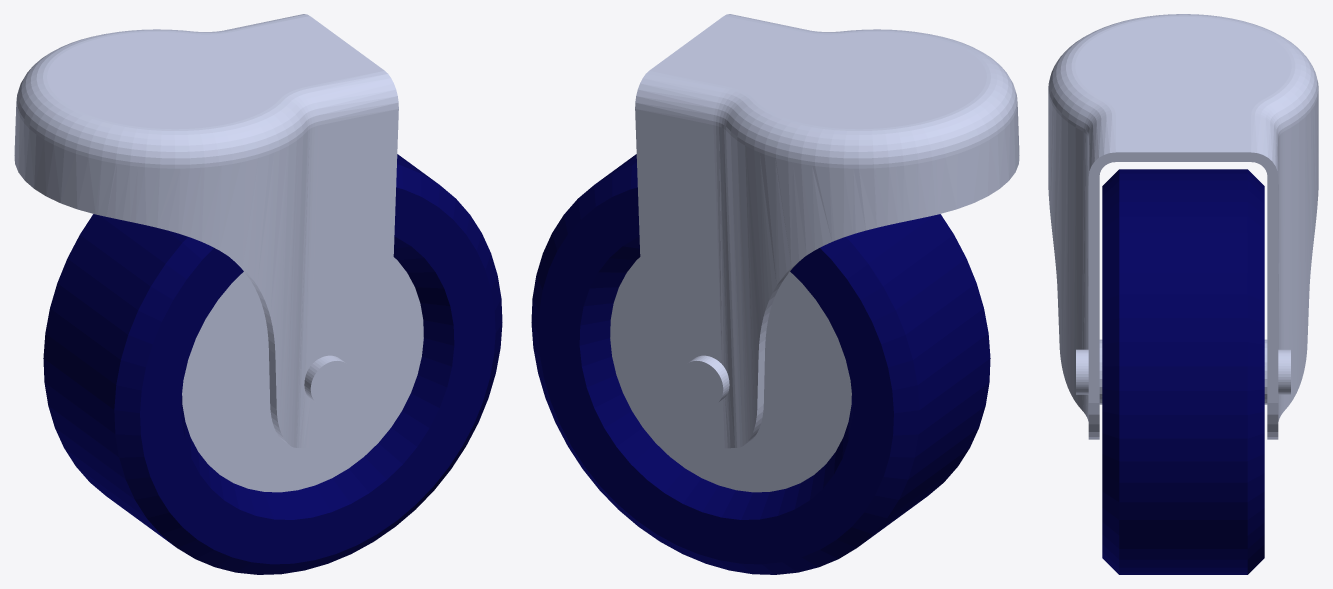
Rendered from caster_wheel.dae.
3 views of the same model, side by side, from view 1: azimuth 30°, elevation 25°; view 2: azimuth 150°, elevation 25°; view 3: azimuth 270°, elevation 25° (orthographic). The views are drawn at different scales.
Visible parts, largest first — view 1: skp3147 (×6); view 2: skp3147 (×6); view 3: skp3147 (×5).
Part boxes in pixels (left/top/right/bottom): skp3147 (×6): left=14, top=14, right=502, bottom=574; skp3147 (×6): left=531, top=14, right=1019, bottom=574; skp3147 (×5): left=1048, top=14, right=1318, bottom=574.
Bounding box in the file's own units: 3.29 × 1.97 × 3.58.
